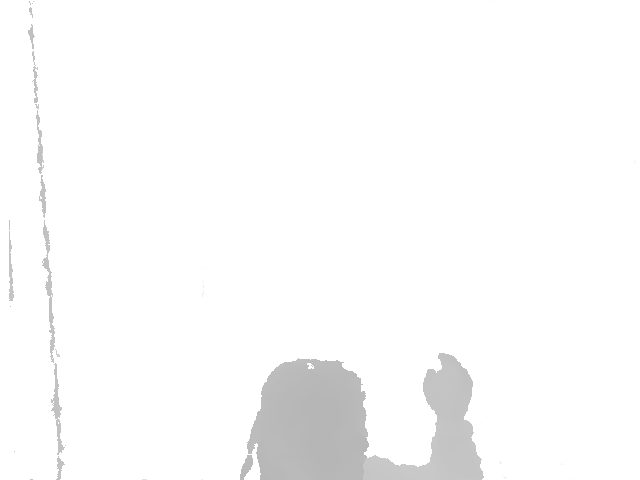head: (250, 357, 368, 457)
person: (241, 346, 480, 480)
